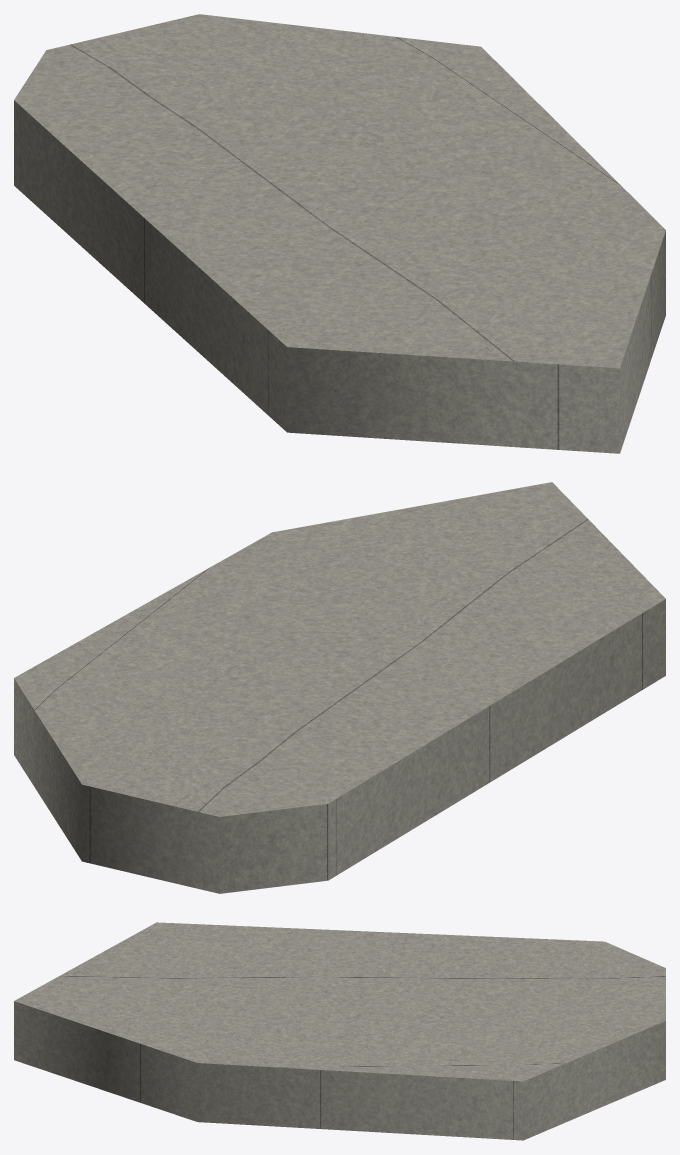
Rendered from curb_14.glb.
3 renders of one model, top to bottom at view 1: azimuth 30°, elevation 25°; view 2: azimuth 150°, elevation 25°; view 3: azimuth 270°, elevation 25°, orthographic. The views are drawn at different scales.
Visible parts, largest first — view 1: curb_14.surface, curb_14.sides; view 2: curb_14.surface, curb_14.sides; view 3: curb_14.surface, curb_14.sides.
Boxes of the visible parts, left/top/right/bottom form: curb_14.surface: left=14, top=14, right=665, bottom=368; curb_14.sides: left=14, top=100, right=665, bottom=453; curb_14.surface: left=14, top=482, right=665, bottom=816; curb_14.sides: left=14, top=599, right=665, bottom=893; curb_14.surface: left=14, top=922, right=665, bottom=1081; curb_14.sides: left=14, top=1001, right=665, bottom=1140.
Bounding box in the file's own units: 0.8994 × 0.171 × 1.6.
Materials: 1 (1 with a texture image).
